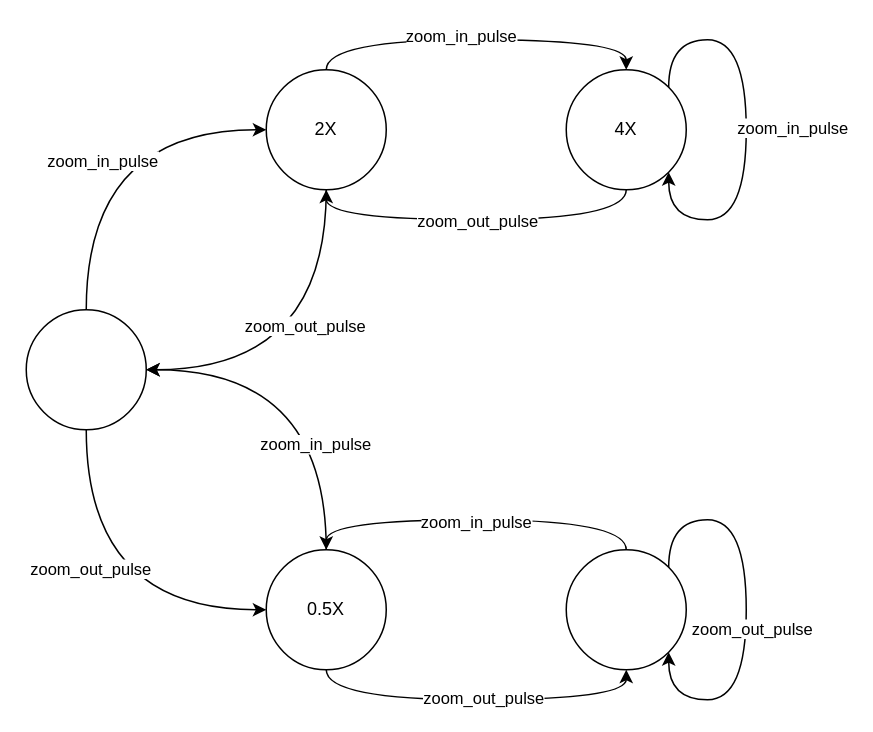
The diagram is 873 pixels wide and 732 high, and some of its shapes have lost their labels. The box of each missing label's shape, as (x1, y1, x2, y2) in pixels:
0.25X: (565, 548, 686, 670)
1X: (25, 308, 146, 430)
